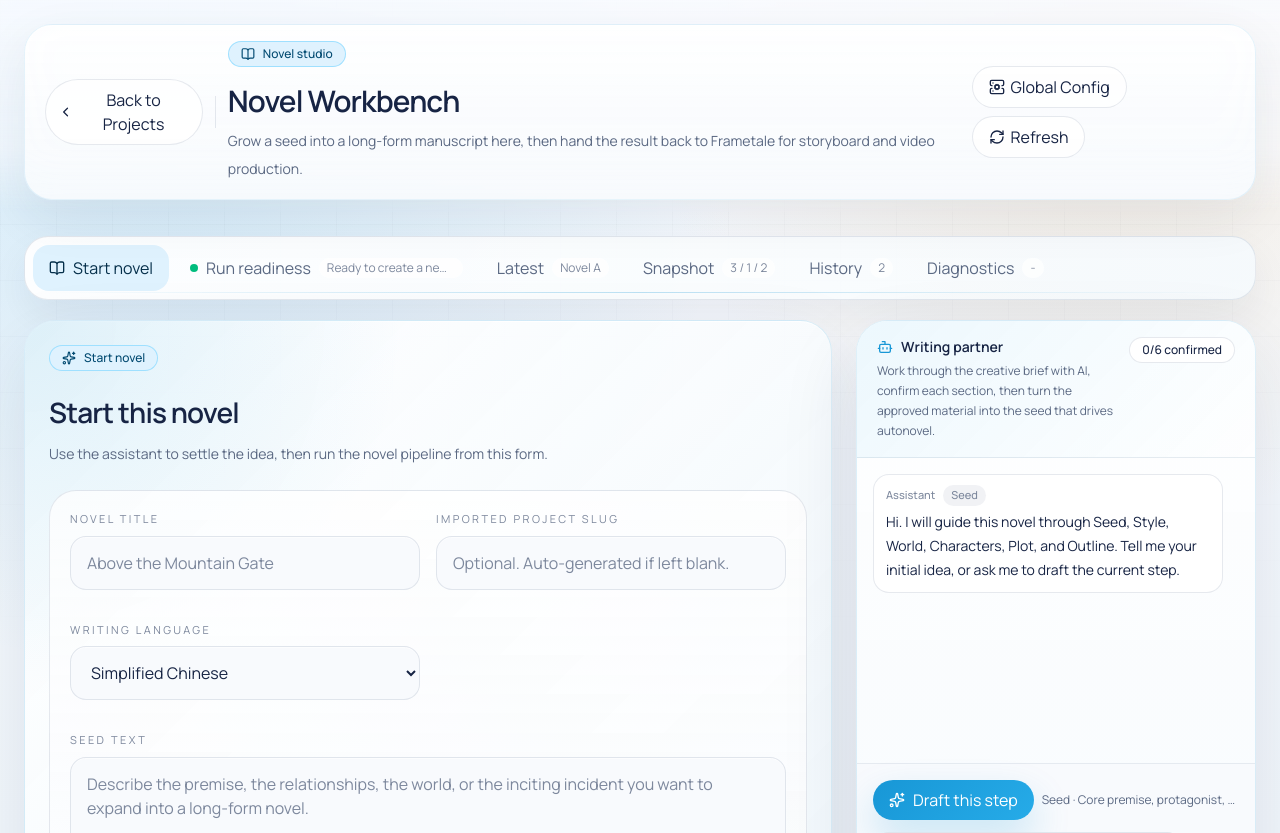
NovelWorkbenchPage sharing › keeps active run logs on the main page instead of listing the run in history
Click the button "History 2" at (851, 268), box [796,245,906,291]
(page scrolled)
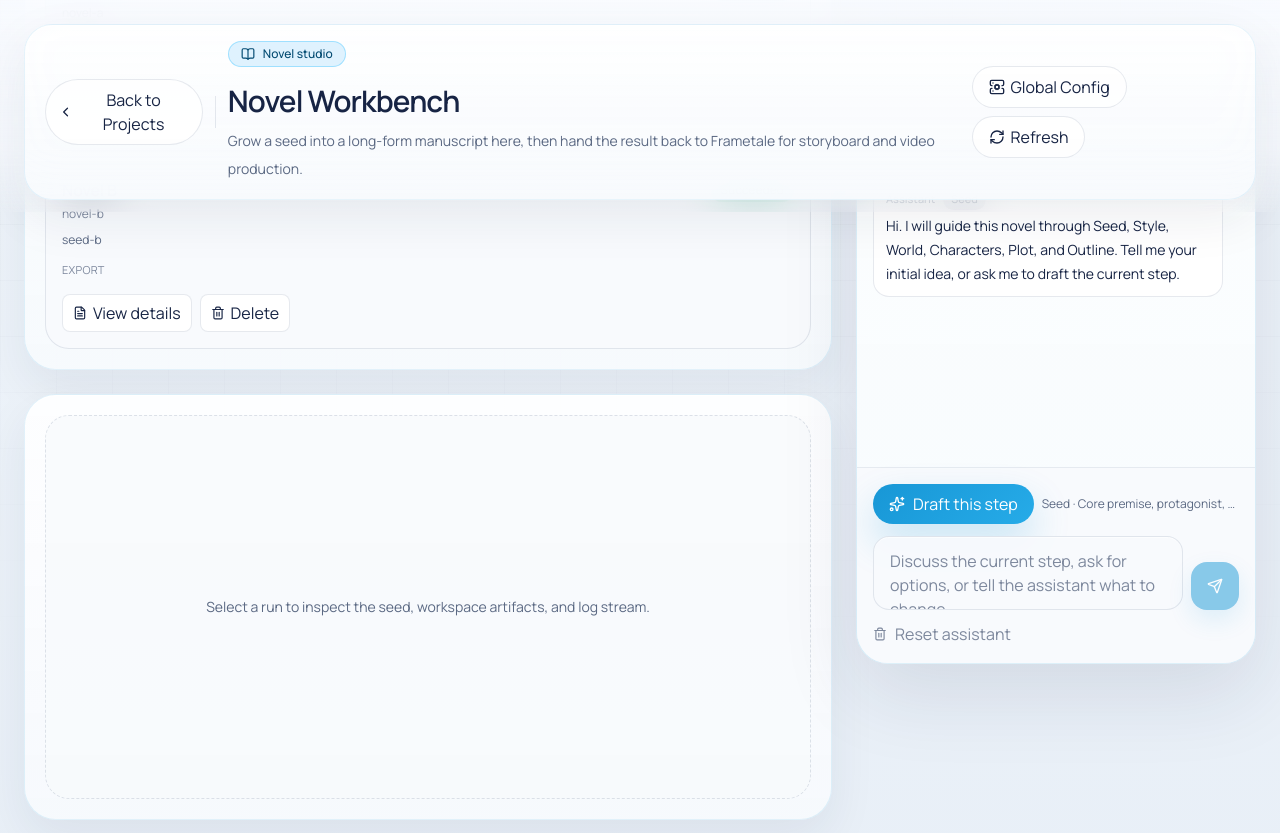
Result: the element with test id "novel-workbench-history-detail" is shown at [24,394,832,820]
